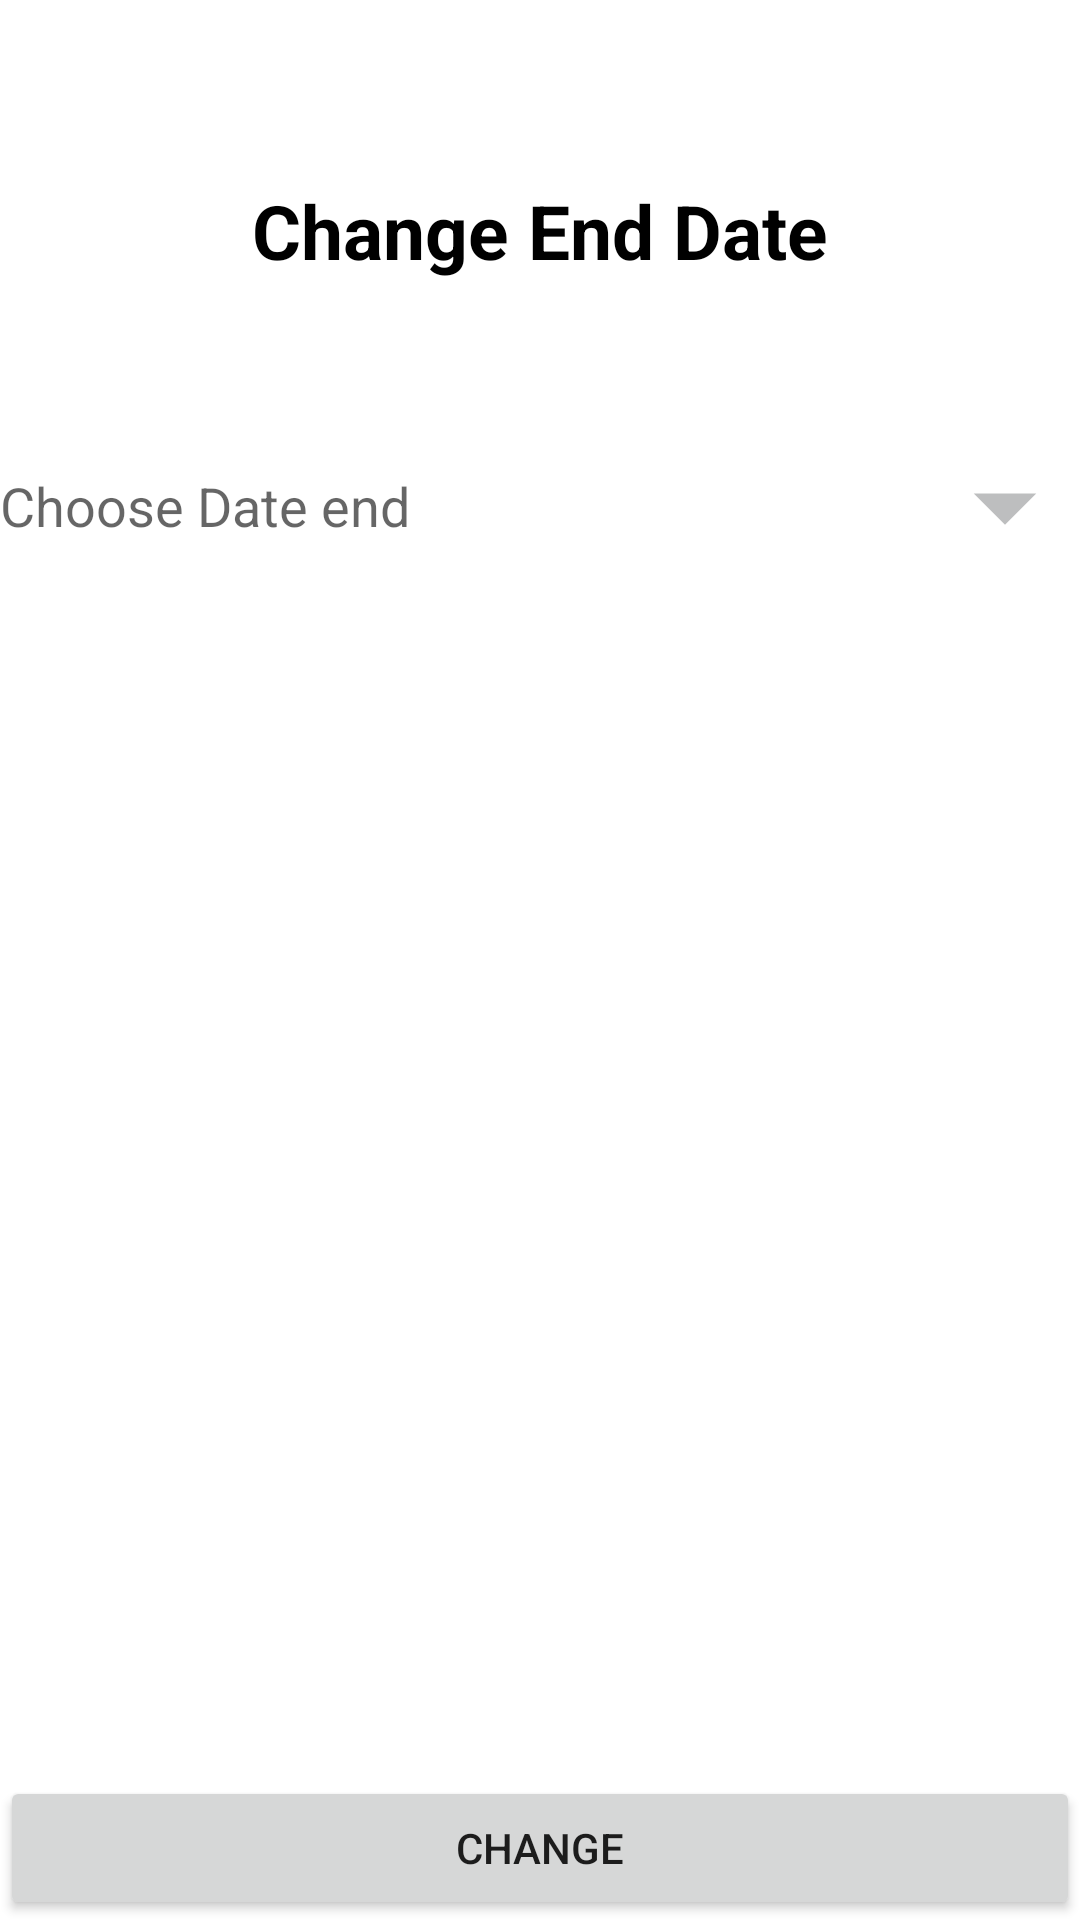

Icons on this 1080 × 1920 Android screen, each with its box as (x1, y1, x2, y2):
arrowdown: (974, 493, 1036, 524)
